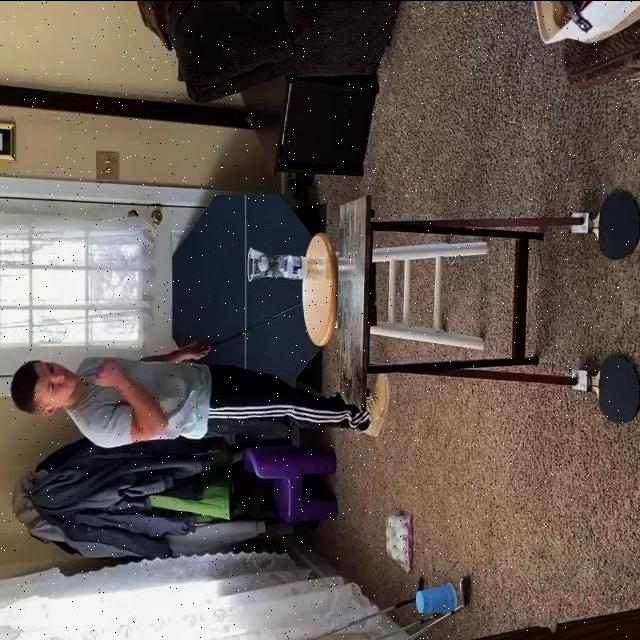ClubHandle: (206, 299, 301, 351)
